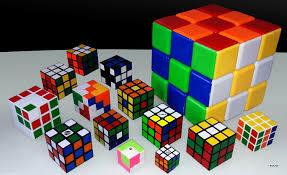cube: (153, 7, 279, 119), (9, 88, 60, 140), (46, 119, 94, 173), (186, 119, 234, 172), (237, 113, 277, 152), (117, 77, 155, 118), (73, 80, 110, 118), (94, 111, 129, 150), (100, 55, 133, 88), (66, 43, 99, 75), (155, 145, 180, 173)
